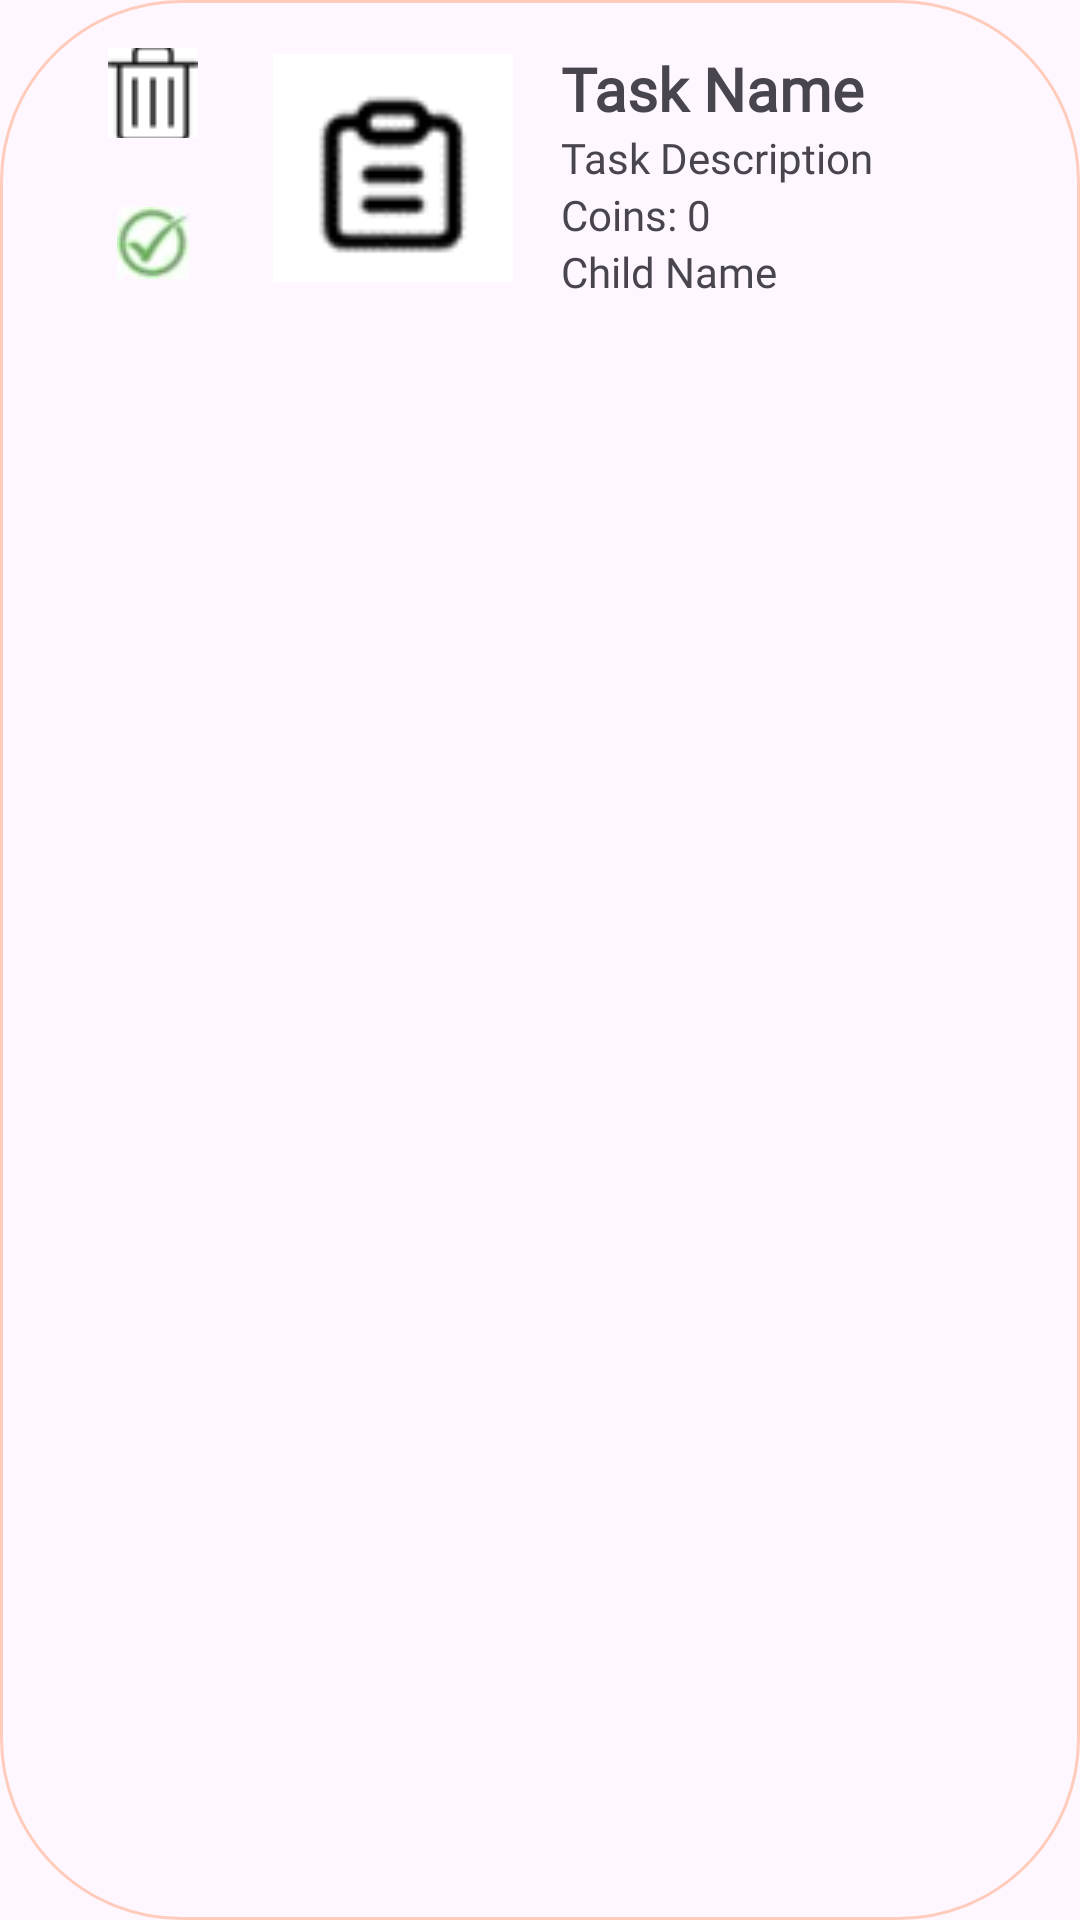

Point at icon controls on the screen. Image size 1080px x 1920px, points as [x,y].
delete: [153,93]
